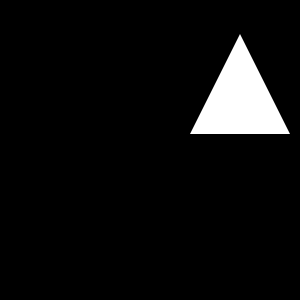triangle: (190, 34, 290, 134)
